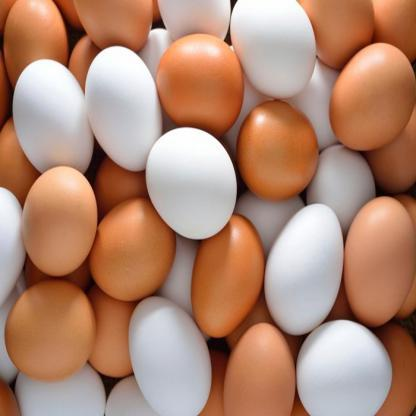egg: (135, 106, 249, 246), (224, 90, 338, 220), (7, 148, 118, 280), (256, 194, 356, 338), (204, 0, 324, 111), (336, 173, 414, 336), (278, 315, 395, 415), (131, 292, 219, 415), (187, 206, 272, 332), (162, 24, 258, 135), (89, 193, 180, 309), (208, 310, 306, 415), (3, 65, 102, 165), (0, 277, 94, 382), (322, 46, 415, 141), (90, 47, 158, 176)
